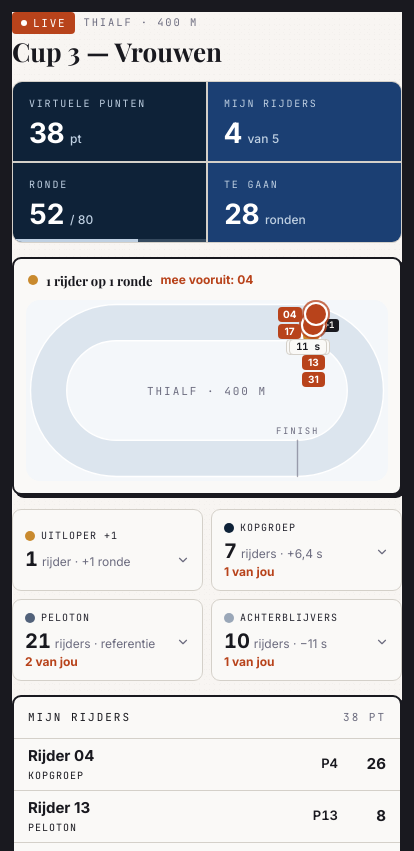
Test: LiveTab › klapt een groep open met de namen erin
What coordinates should you click on to do the following:
click the button "Kopgroep 7 rijders · +6,4 s 1 van jou"
I would click on:
 (306, 550)
Its box is [211, 509, 402, 591].
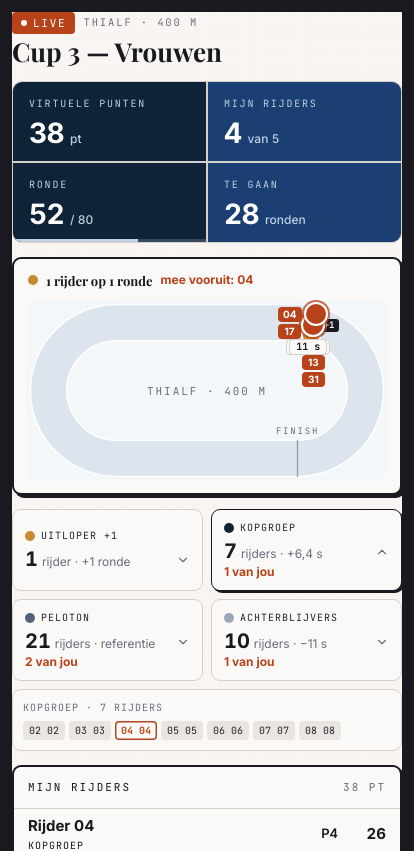
Now the button "Kopgroep 7 rijders · +6,4 s 1 van jou" is expanded, box [211, 509, 402, 591]
Now the text "Kopgroep · 7 rijders" is shown, box [23, 701, 163, 714]
